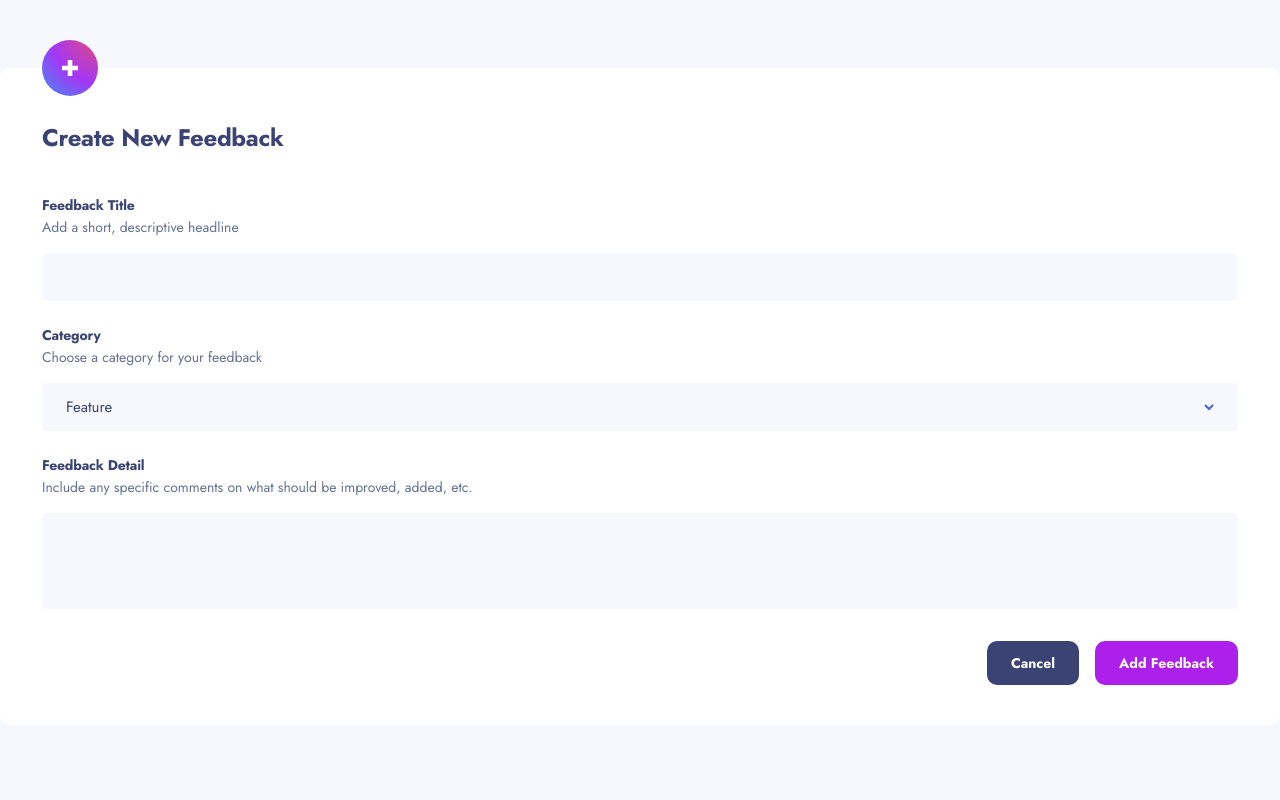
Test case: NewFeedbackForm › refuses an empty submit and says so on both fields
The image size is (1280, 800).
Click the button "Add Feedback". click: point(1166, 663)
box: left=1095, top=641, right=1238, bottom=685
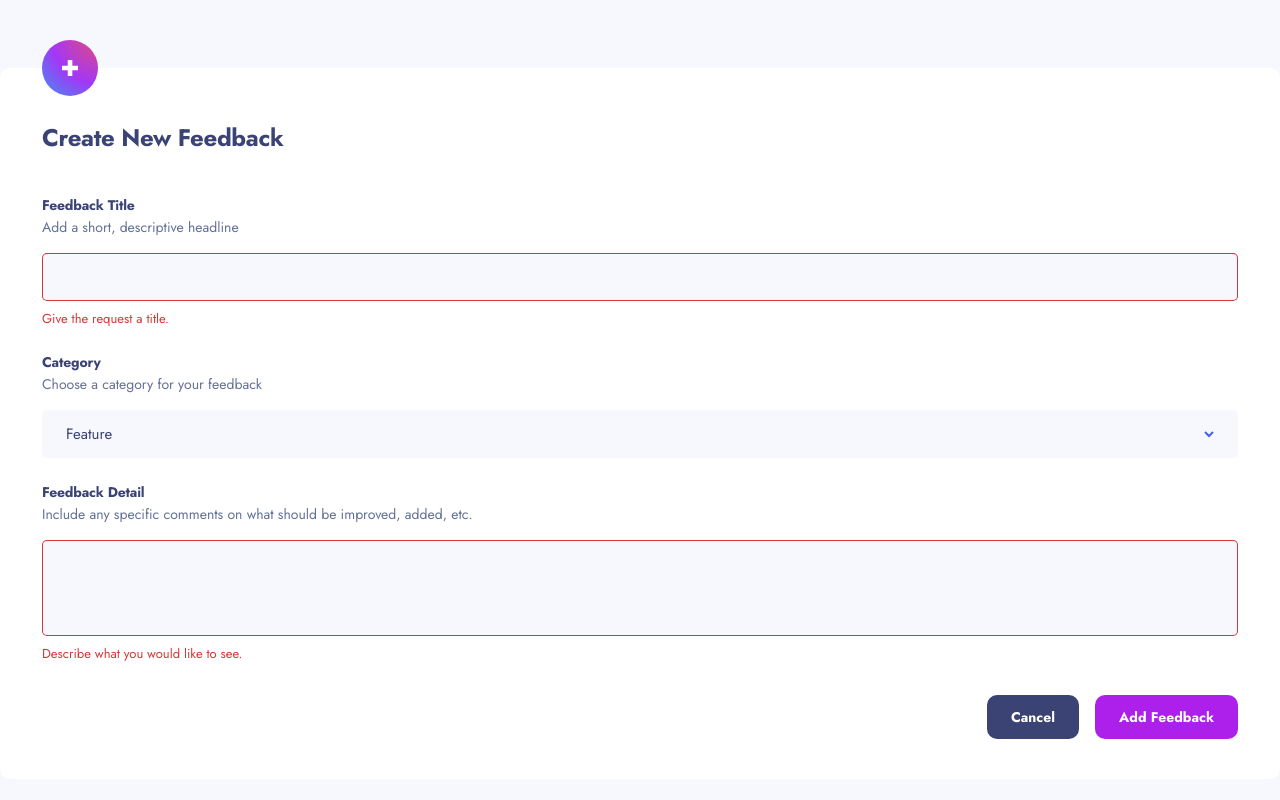
Expected: the number of messages is 2, left=42, top=309, right=169, bottom=328; left=42, top=644, right=242, bottom=663
